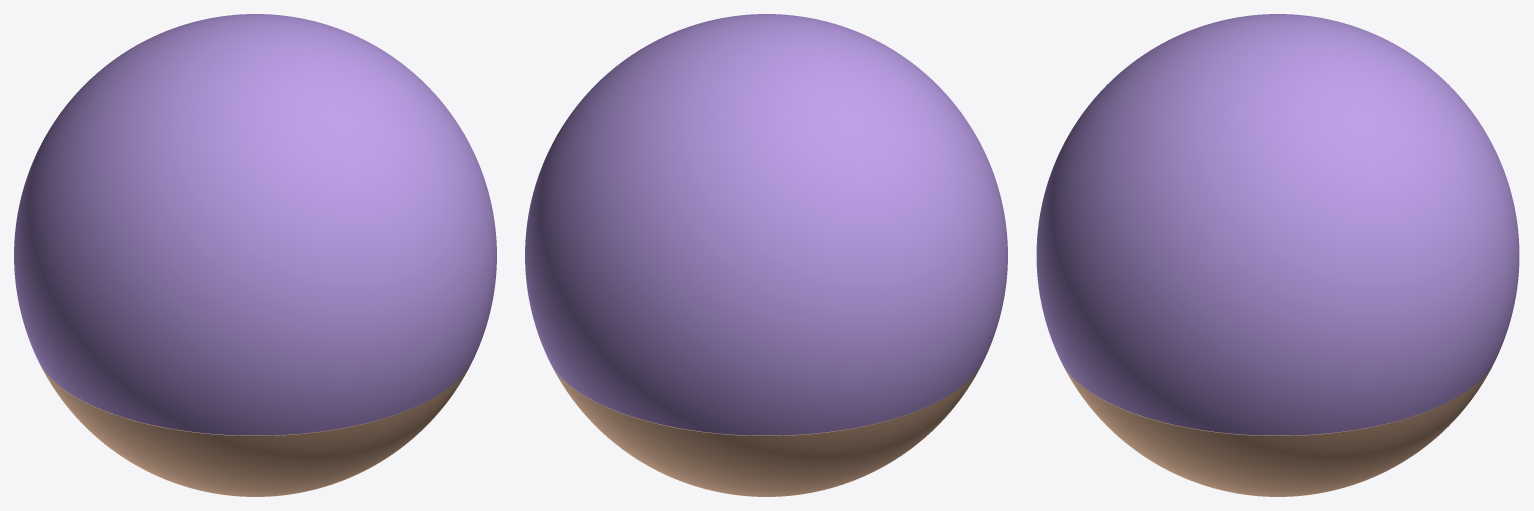
Rendered from dome20m fine.DAE.
3 views of the same model, side by side, from view 1: azimuth 30°, elevation 25°; view 2: azimuth 150°, elevation 25°; view 3: azimuth 270°, elevation 25° (orthographic).
Visible parts, largest first — view 1: Dome, Bottom; view 2: Dome, Bottom; view 3: Dome, Bottom.
Boxes of the visible parts, x1=… form: Dome: x1=14, y1=14, x2=496, y2=435; Bottom: x1=40, y1=365, x2=470, y2=496; Dome: x1=525, y1=14, x2=1007, y2=435; Bottom: x1=551, y1=365, x2=981, y2=496; Dome: x1=1036, y1=14, x2=1519, y2=435; Bottom: x1=1063, y1=366, x2=1492, y2=496.
Size of the model in its own units: 20 by 20 by 20.
